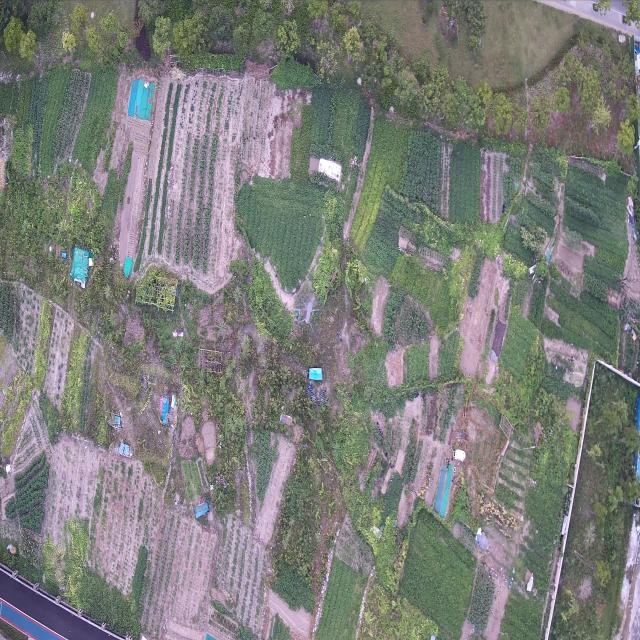UAV: (297, 297, 319, 332)
